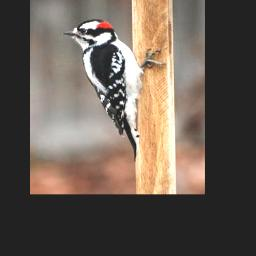Woodpecker: (63, 19, 167, 160)
